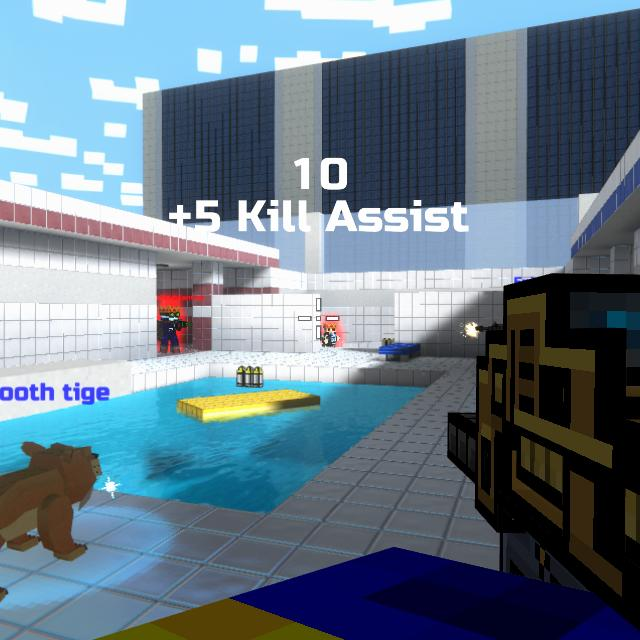Enemy: (157, 308, 180, 353), (318, 325, 340, 348)
